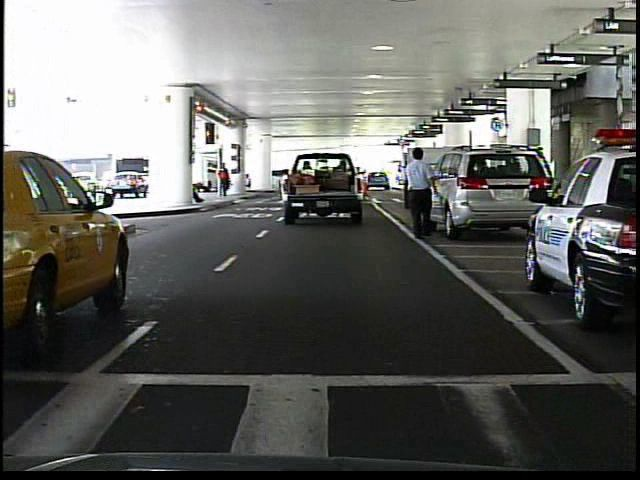person: (399, 145, 443, 239), (217, 162, 236, 200)
